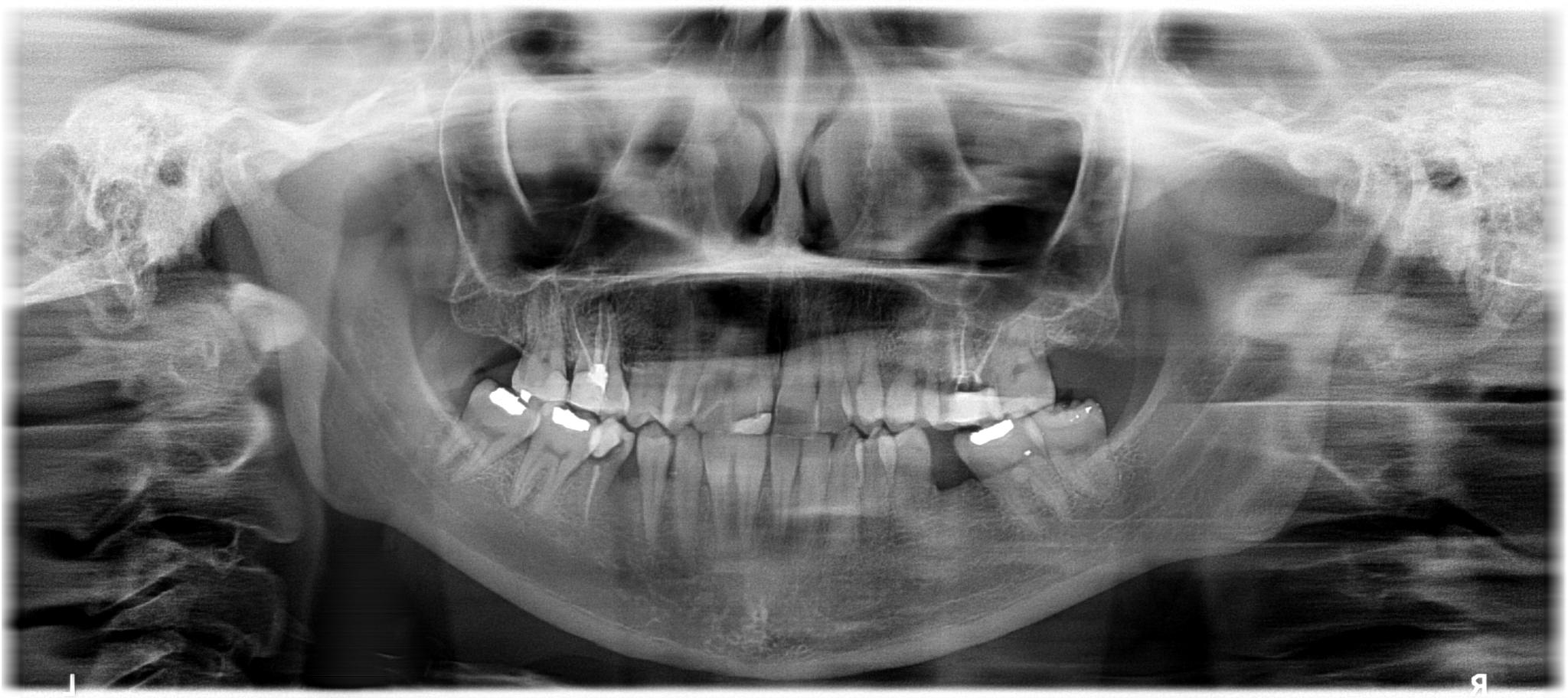Premolars: (530, 206, 1568, 588), (327, 221, 950, 643)
